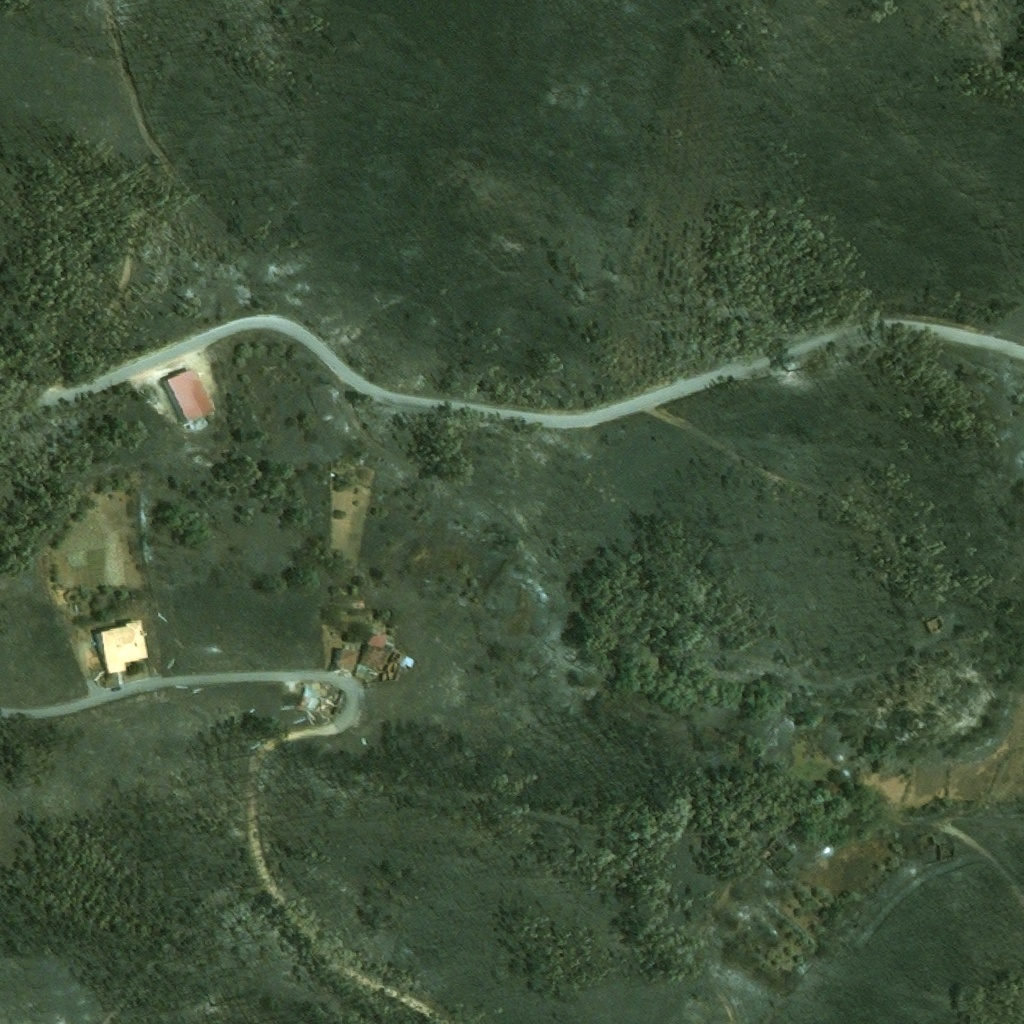0 no-damage: (90, 618, 149, 674), (160, 368, 215, 425)
1 minor-damage: (329, 649, 358, 669)
2 major-damage: (352, 632, 394, 677)
3 destroyed: (306, 685, 345, 717), (400, 656, 415, 671), (295, 686, 303, 694)
